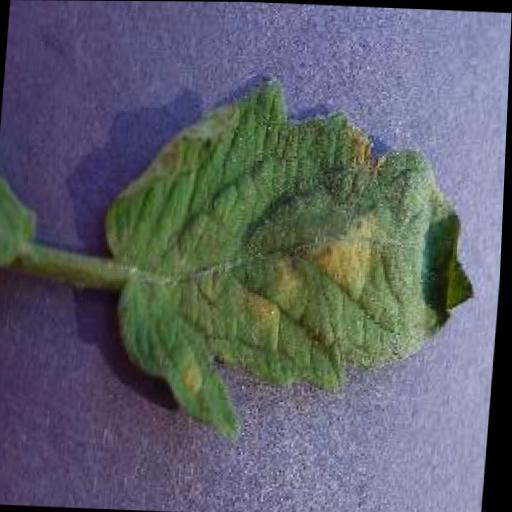Leaf Mold: (89, 64, 493, 447)
